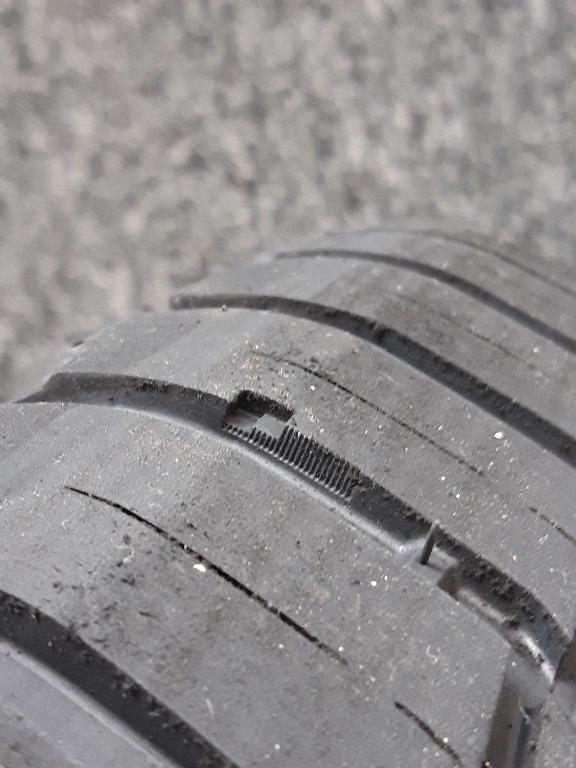temoin:50: (210, 382, 329, 478)
